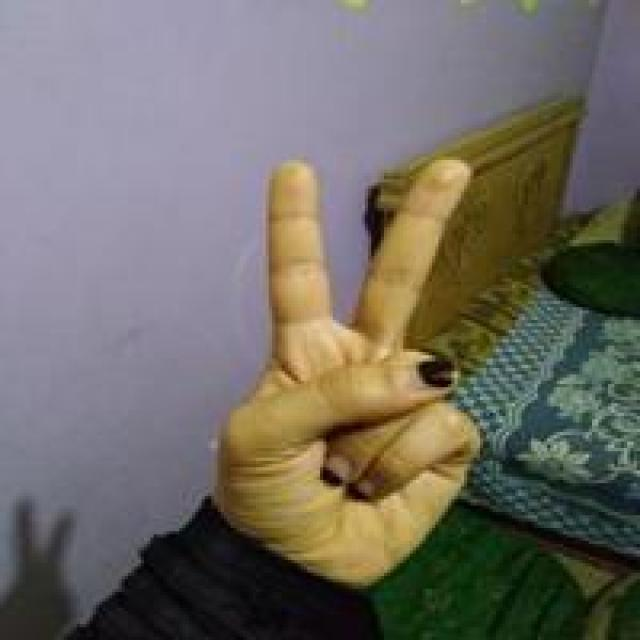V: (202, 154, 492, 576)
